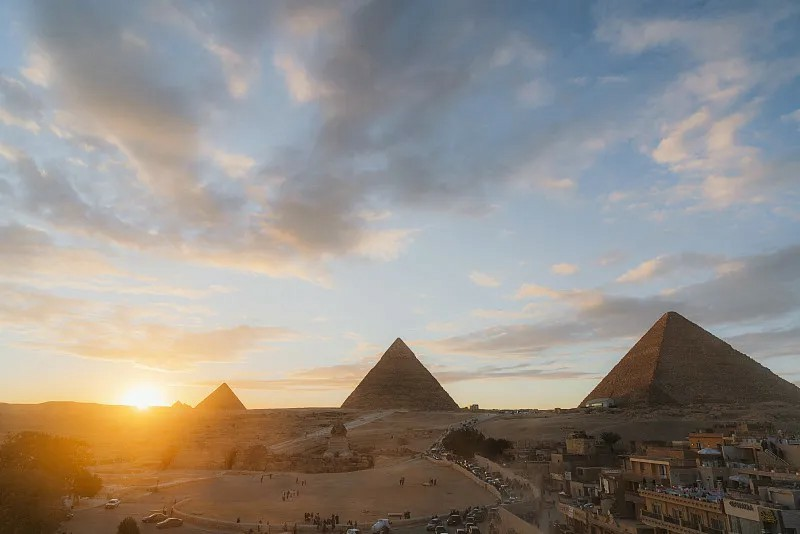Pyramid: (578, 312, 800, 410), (339, 338, 462, 412), (194, 382, 248, 408)
